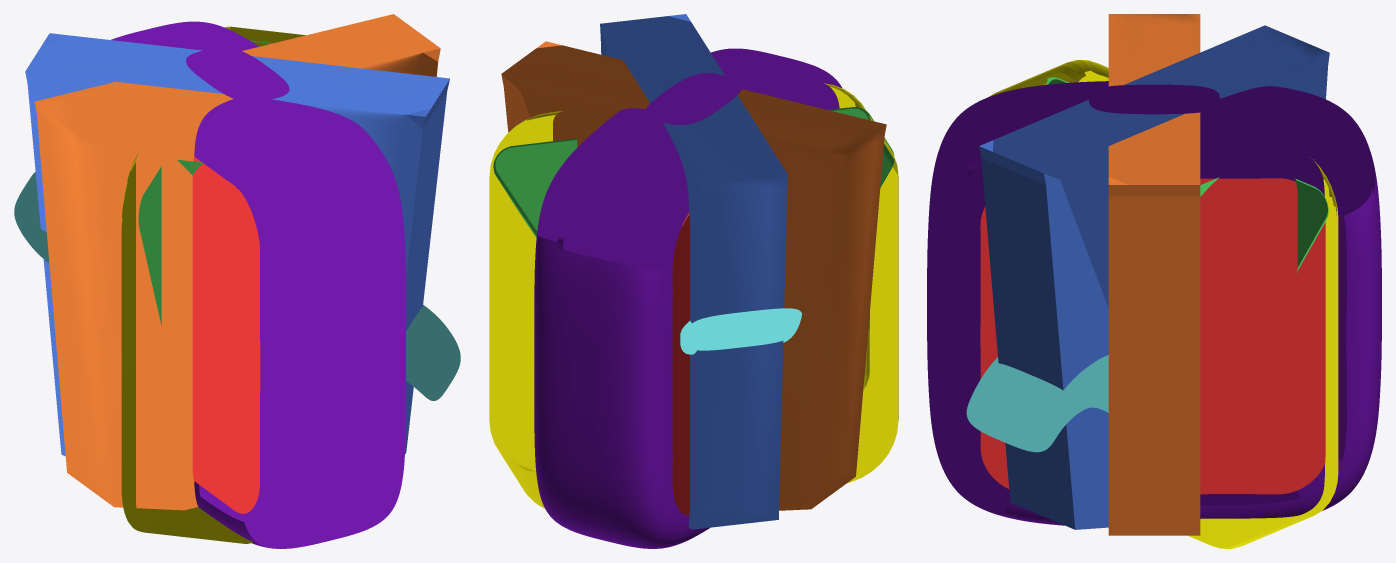
File: modelDraco.glb
The picture shows the model from 3 angles, left to right: view 1: azimuth 30°, elevation 25°; view 2: azimuth 150°, elevation 25°; view 3: azimuth 270°, elevation 25°; orthographic projection. The views are drawn at different scales.
Parts seen in each view (by area): view 1: back, Cube019, Cube016, Cube_1, Cube, LOGO_1, Curve002; view 2: back, Cube019, Cube016, Cube, Curve002, Cube_1, LOGO_1; view 3: back, Cube016, Cube019, Cube_1, LOGO_1, Cube, Curve002.
Part boxes in pixels (x1,y1,x2,y2): back: (111,21,405,548); Cube019: (34,14,440,510); Cube016: (25,33,449,455); Cube_1: (192,157,260,513); Cube: (121,26,305,543); LOGO_1: (14,172,460,400); Curve002: (138,40,273,327); back: (534,48,841,548); Cube019: (501,41,886,510); Cube016: (600,14,787,529); Cube: (489,83,898,508); Curve002: (493,107,894,237); Cube_1: (672,213,689,515); LOGO_1: (680,308,801,354); back: (927,81,1381,525); Cube016: (979,25,1329,529); Cube019: (1108,14,1200,535); Cube_1: (980,178,1325,494); LOGO_1: (966,355,1108,452); Cube: (989,60,1338,548); Curve002: (1027,77,1328,274).
Size of the model in its own units: 8285 by 9323 by 9323.
